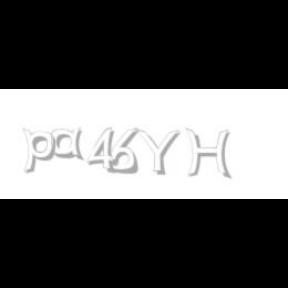4: (86, 128, 118, 174)
6: (110, 128, 138, 176)
H: (185, 128, 231, 180)
Y: (134, 128, 180, 176)
a: (52, 128, 88, 160)
p: (22, 128, 60, 174)
